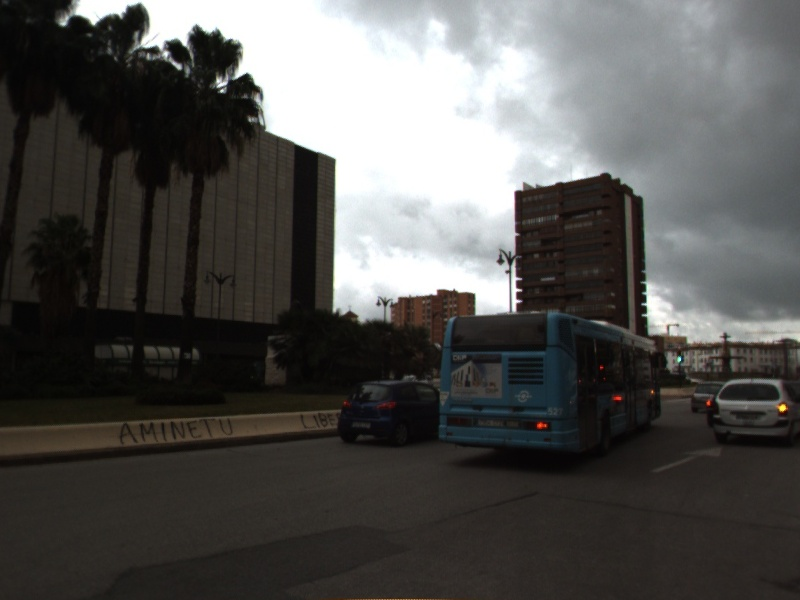STRAIGHT: (649, 444, 724, 475)
